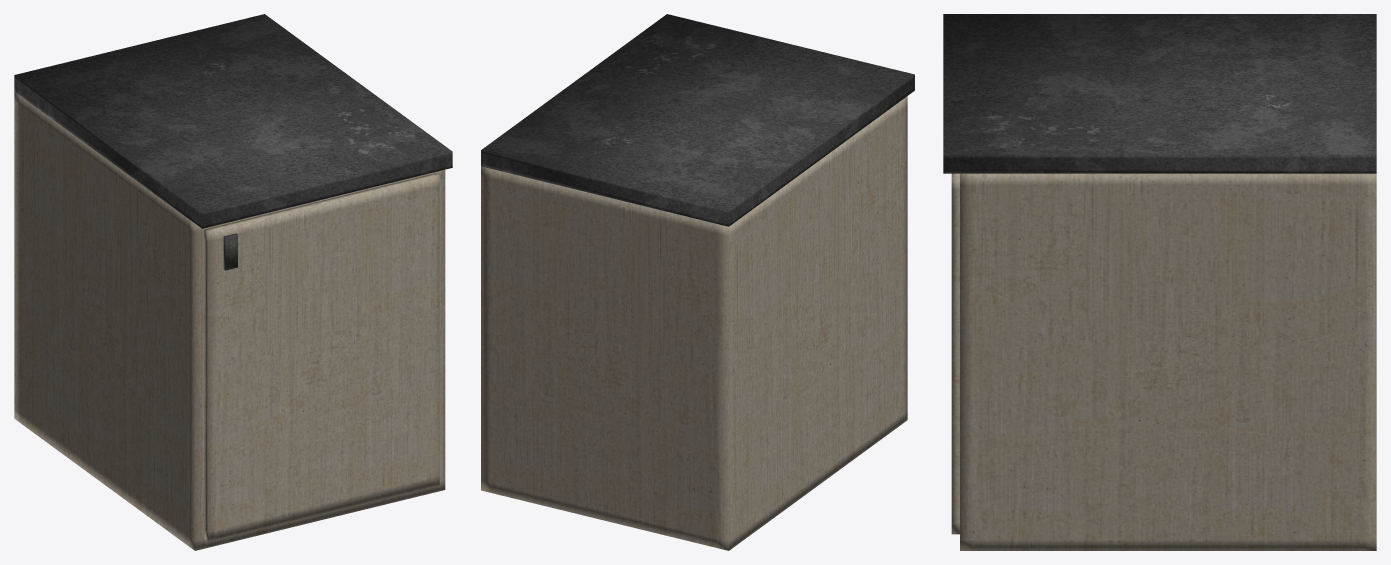
Rendered from cabinet.low.none.003.fbx.
3 views of the same model, side by side, from view 1: azimuth 30°, elevation 25°; view 2: azimuth 150°, elevation 25°; view 3: azimuth 270°, elevation 25° (orthographic). The views are drawn at different scales.
Parts seen in each view (by area): view 1: Drawer.001, Base, Cube.001; view 2: Base, Cube.001; view 3: Base, Cube.001, Drawer.001.
Boxes of the visible parts, x1,y1,x2,y2 form: Drawer.001: [204, 173, 439, 541]; Base: [14, 91, 445, 550]; Cube.001: [14, 14, 452, 228]; Base: [481, 96, 907, 550]; Cube.001: [481, 14, 914, 226]; Base: [960, 173, 1376, 550]; Cube.001: [943, 14, 1376, 173]; Drawer.001: [951, 173, 959, 534].
Bounding box in the file's own units: 80 × 105 × 104.
